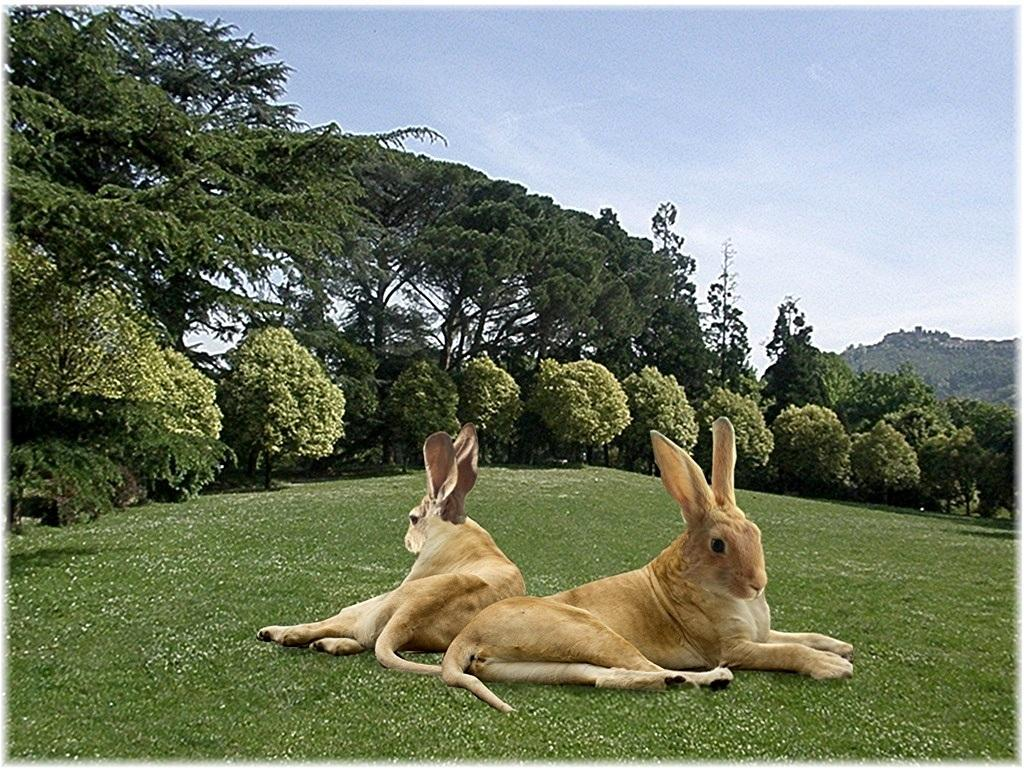kangaroo: (435, 411, 855, 718)
